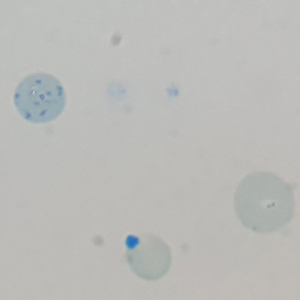aggregate reticulocyte: (12, 71, 67, 125)
erythrocyte: (231, 170, 298, 235), (123, 231, 174, 283)
